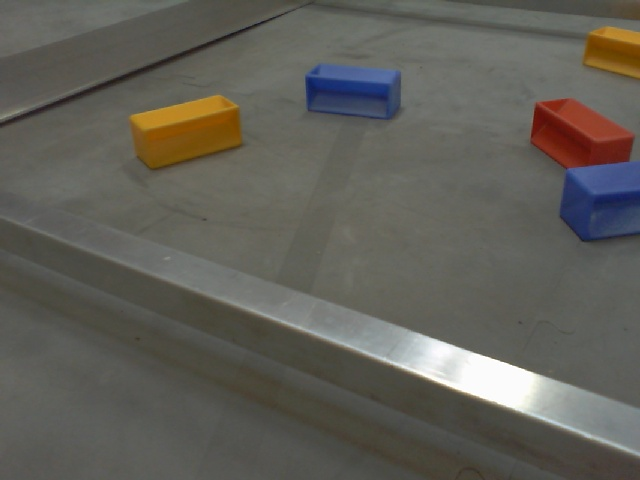BlueSample: (554, 161, 640, 244), (301, 60, 406, 122)
RedSample: (529, 94, 636, 172)
YellowSample: (127, 93, 245, 171), (581, 23, 640, 82)
